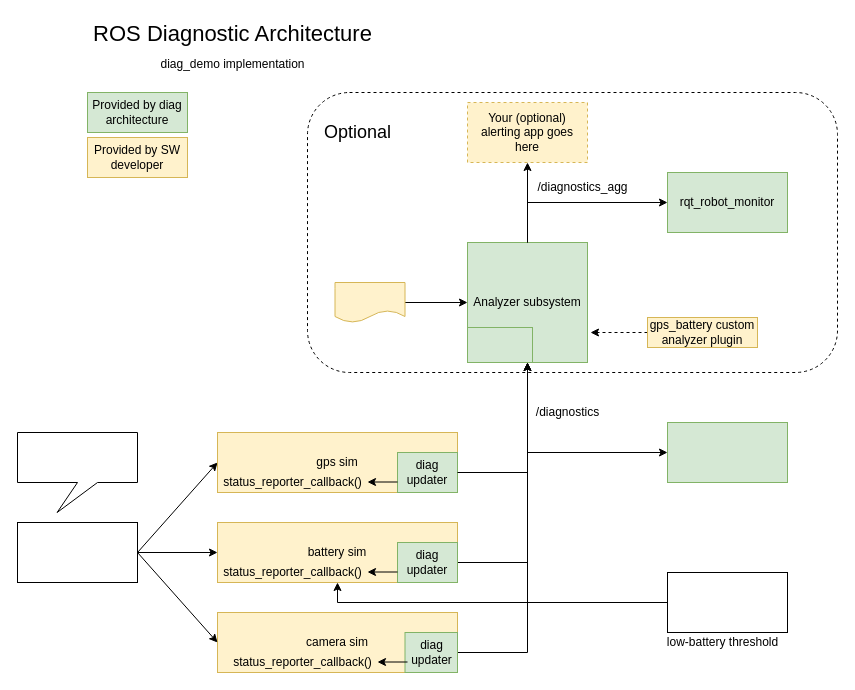
Image size: 855x690. Some labels were removed from this diagram. Each missing label, with the centre of its shape:
"Analyzer Config" belongs at (x=369, y=302).
"Generic Analyzer" belongs at (x=499, y=344).
"Provides varying data for demo" belongs at (x=77, y=472).
"rqt_dynamic_reconfig" belongs at (x=727, y=602).
"rqt_runtime_monitor" belongs at (x=727, y=452).
"sine generator" belongs at (x=77, y=552).
